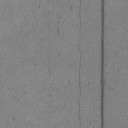surface scratch: (78, 0, 82, 128), (101, 0, 104, 128)
